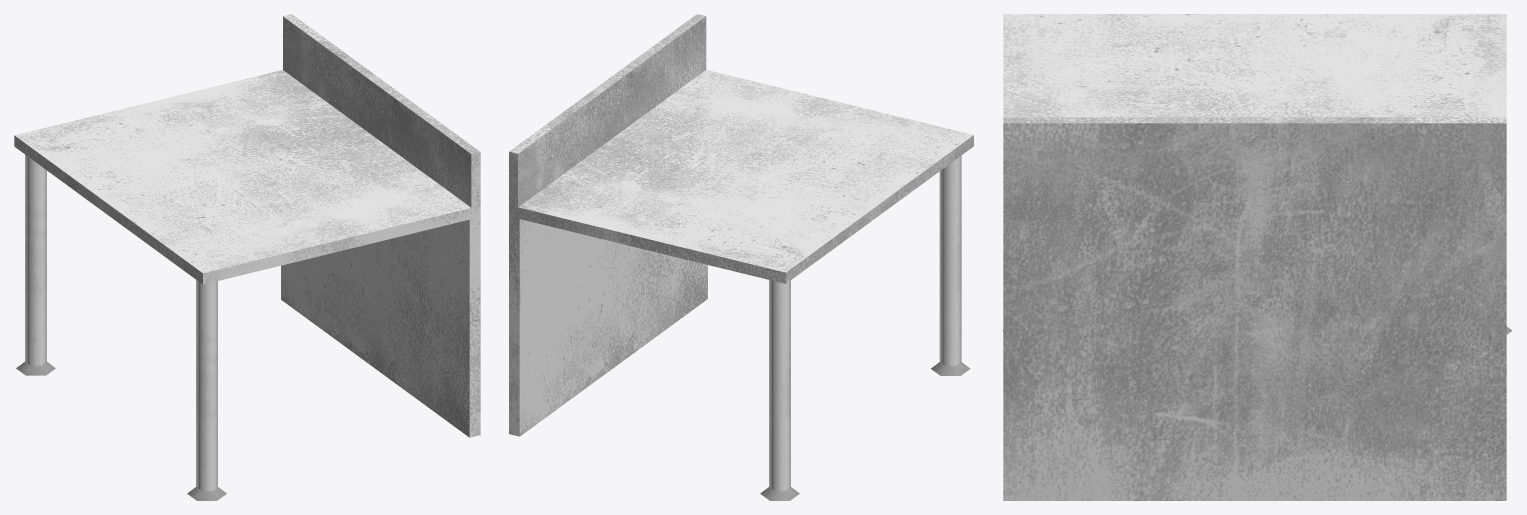
File: Kitchen Table Short.fbx
3 renders of one model, left to right at view 1: azimuth 30°, elevation 25°; view 2: azimuth 150°, elevation 25°; view 3: azimuth 270°, elevation 25°, orthographic. The views are drawn at different scales.
Visible parts, largest first — view 1: Cube.019; view 2: Cube.019; view 3: Cube.019.
Part boxes in pixels (x1=…): Cube.019: x1=14, y1=14, x2=480, y2=500; Cube.019: x1=509, y1=14, x2=973, y2=500; Cube.019: x1=1002, y1=14, x2=1512, y2=500.
Bounding box in the file's own units: 78.94 × 76.87 × 93.72.
